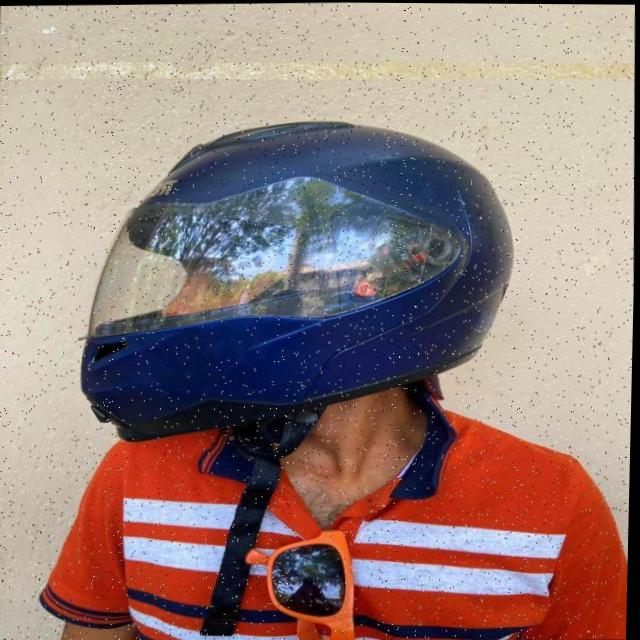helmet: (71, 115, 519, 639)
